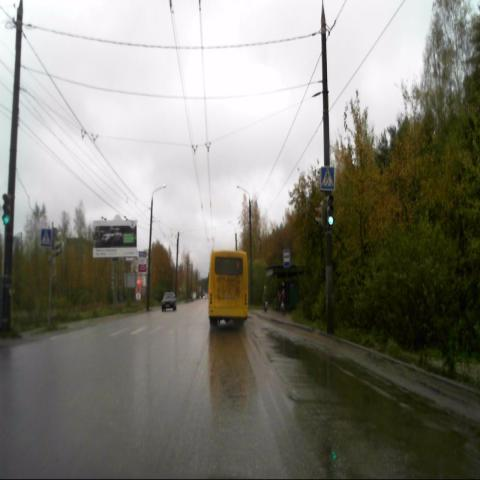5_16: (283, 248, 291, 269)
5_19_1: (319, 165, 335, 192), (40, 229, 50, 248)
